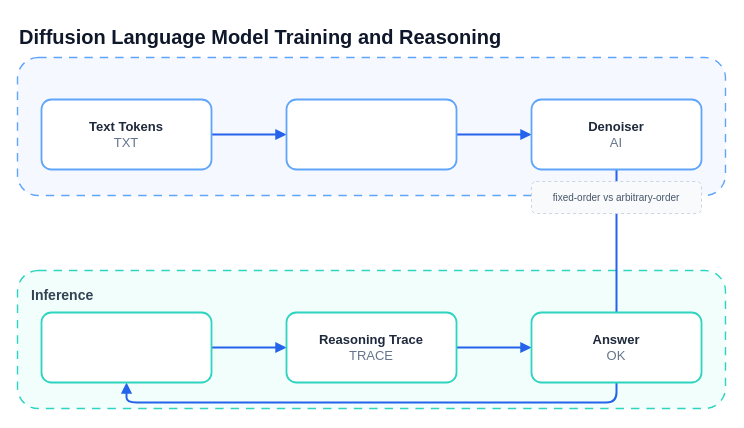
This 744x428 diagram has some shape labels left out. Here are the shapes that lost their labels. From the top down, the box of each, then its label:
(16, 56, 726, 196): Training
(285, 98, 457, 170): Noising NOISE
(40, 311, 212, 383): Left-to-Right Decoder DECODE
